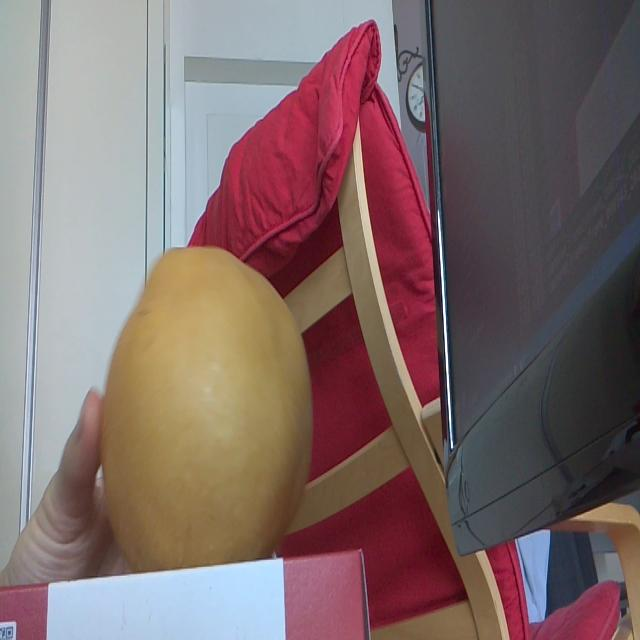pear: (103, 245, 313, 560)
